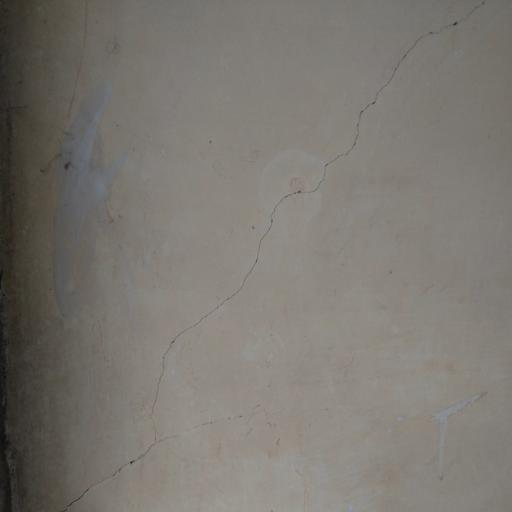minor_crack: (73, 0, 512, 512)
